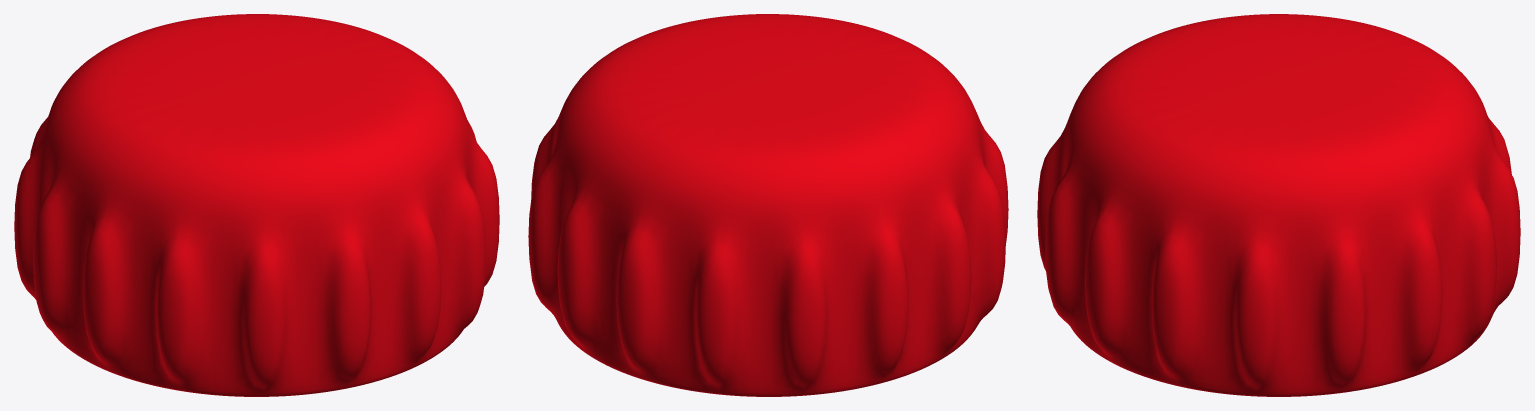
Rendered from PlasticCap.fbx.
3 views of the same model, side by side, from view 1: azimuth 30°, elevation 25°; view 2: azimuth 150°, elevation 25°; view 3: azimuth 270°, elevation 25° (orthographic).
Parts seen in each view (by area): view 1: Cylinder; view 2: Cylinder; view 3: Cylinder.
Boxes of the visible parts, x1,y1,x2,y2 form: Cylinder: (14,14,499,396); Cylinder: (528,14,1008,396); Cylinder: (1037,14,1520,396).
Size of the model in its own units: 222 by 117 by 222.
